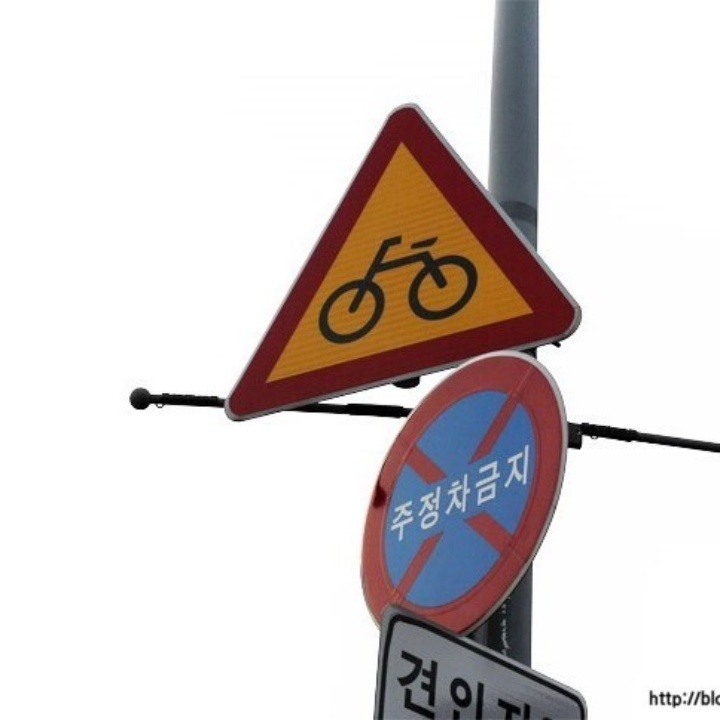bicycle: (230, 101, 579, 409)
